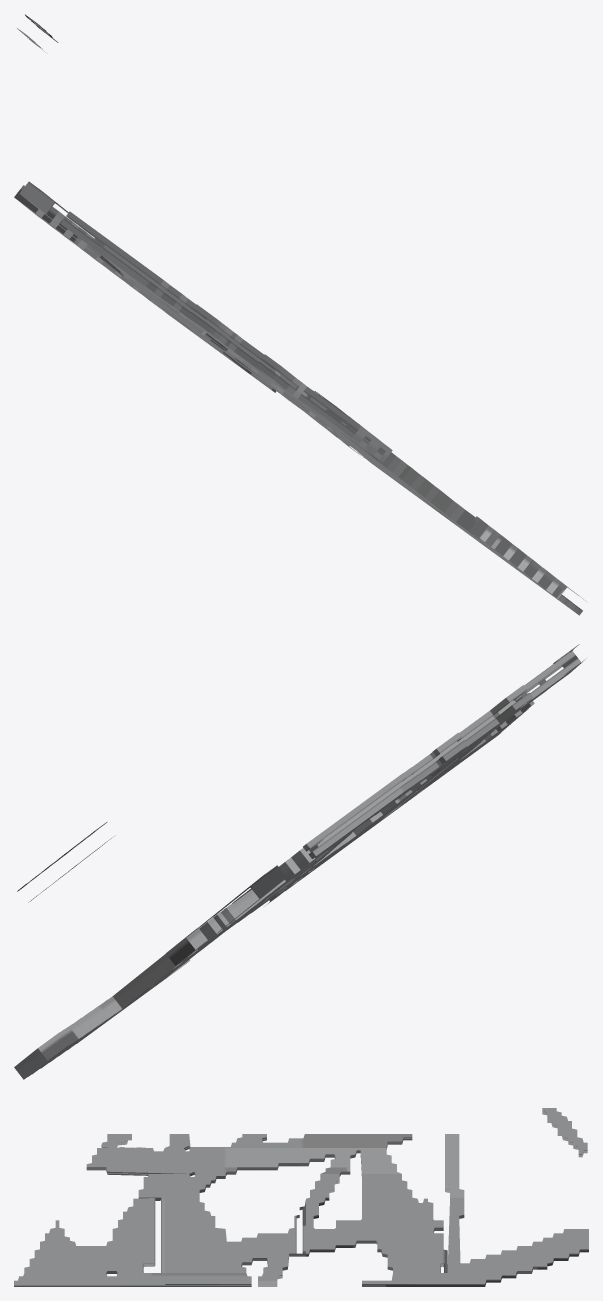
The picture shows the model from 3 angles, top to bottom: view 1: azimuth 30°, elevation 25°; view 2: azimuth 150°, elevation 25°; view 3: azimuth 270°, elevation 25°; orthographic projection. The views are drawn at different scales.
Size of the model in its own units: 0.534 by 0.7744 by 2.58.
